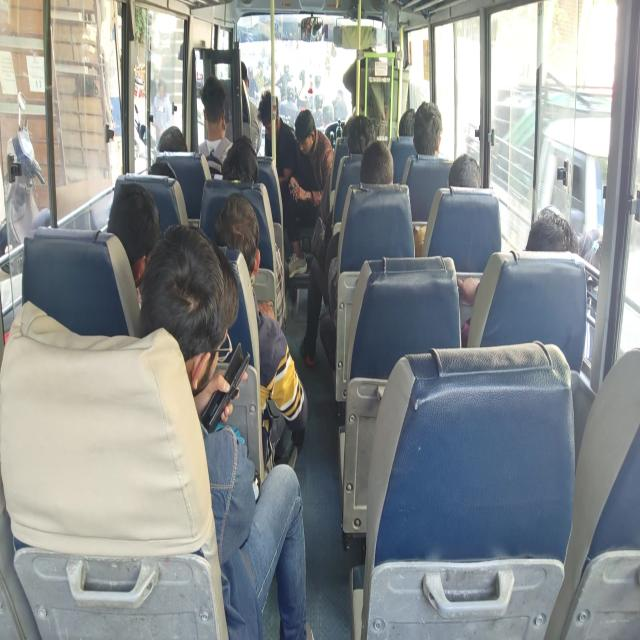person: (137, 223, 309, 638), (214, 192, 308, 465), (21, 181, 160, 337), (300, 140, 394, 369), (457, 205, 580, 346), (256, 89, 302, 273), (286, 108, 334, 278), (106, 181, 161, 293), (257, 89, 297, 183), (198, 74, 233, 178), (525, 206, 579, 253), (240, 61, 261, 154), (412, 100, 444, 158), (221, 136, 259, 183), (151, 79, 171, 145), (447, 153, 482, 188), (346, 114, 376, 154), (157, 126, 187, 152), (398, 108, 415, 136)
